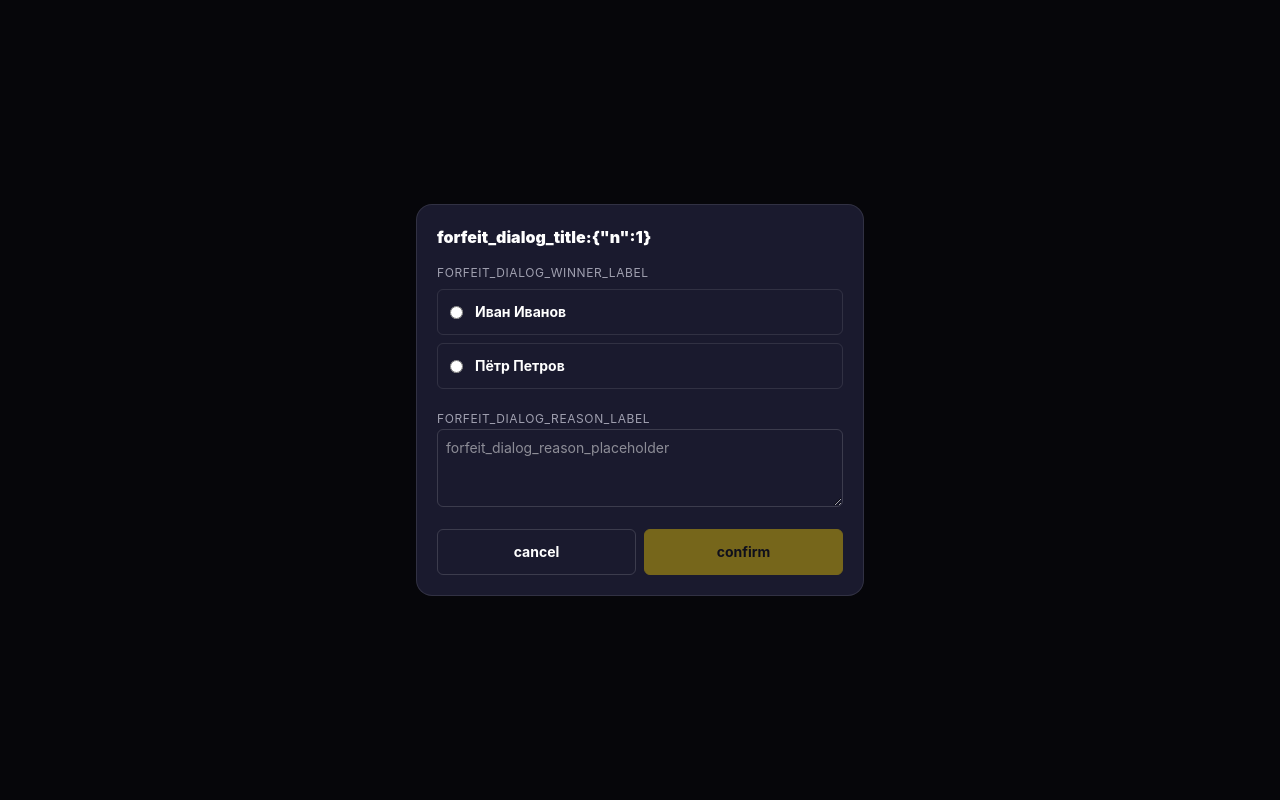
ForfeitDialog › confirm is disabled until a winner is selected
The width and height of the screenshot is (1280, 800).
Expected: the button "confirm" is disabled, x1=644 y1=529 x2=843 y2=575
Click the radio button labelled "Иван Иванов" at (456, 312), box x1=450 y1=306 x2=463 y2=318
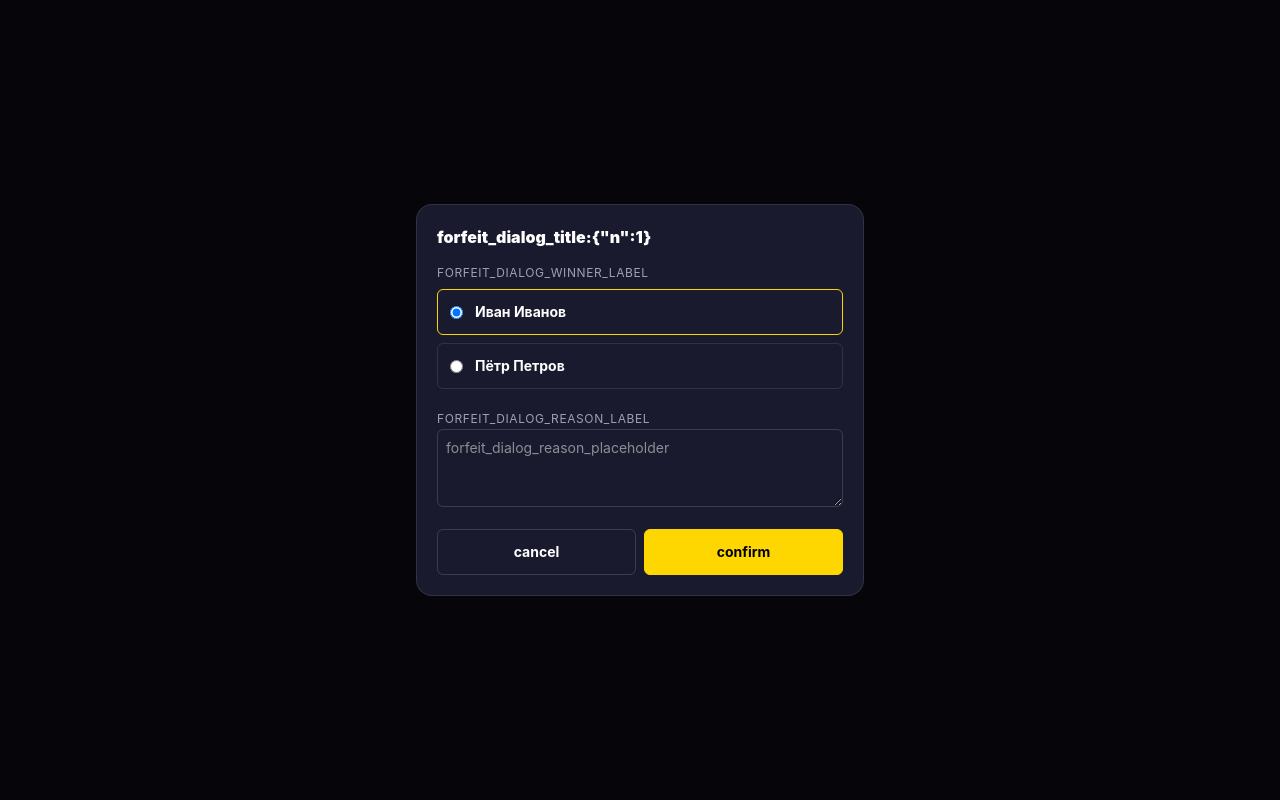
Now the button "confirm" is enabled, box x1=644 y1=529 x2=843 y2=575
